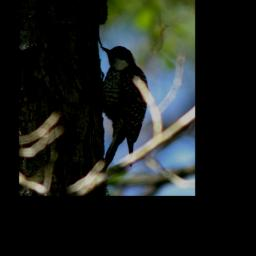Woodpecker: (99, 45, 149, 172)
